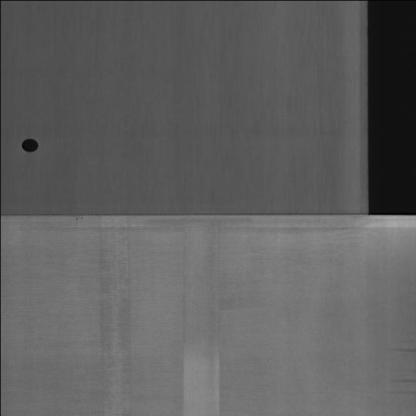punching_hole: (17, 132, 43, 158)
welding_line: (0, 202, 416, 226)
